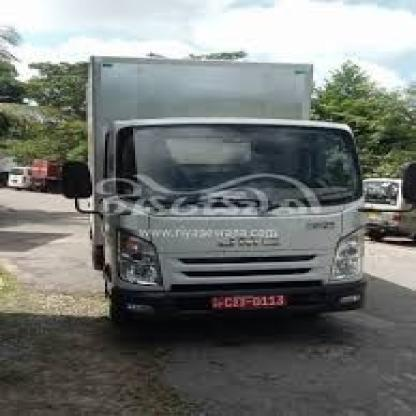Lorry front: (51, 53, 416, 327)
number plate: (203, 290, 290, 312)
